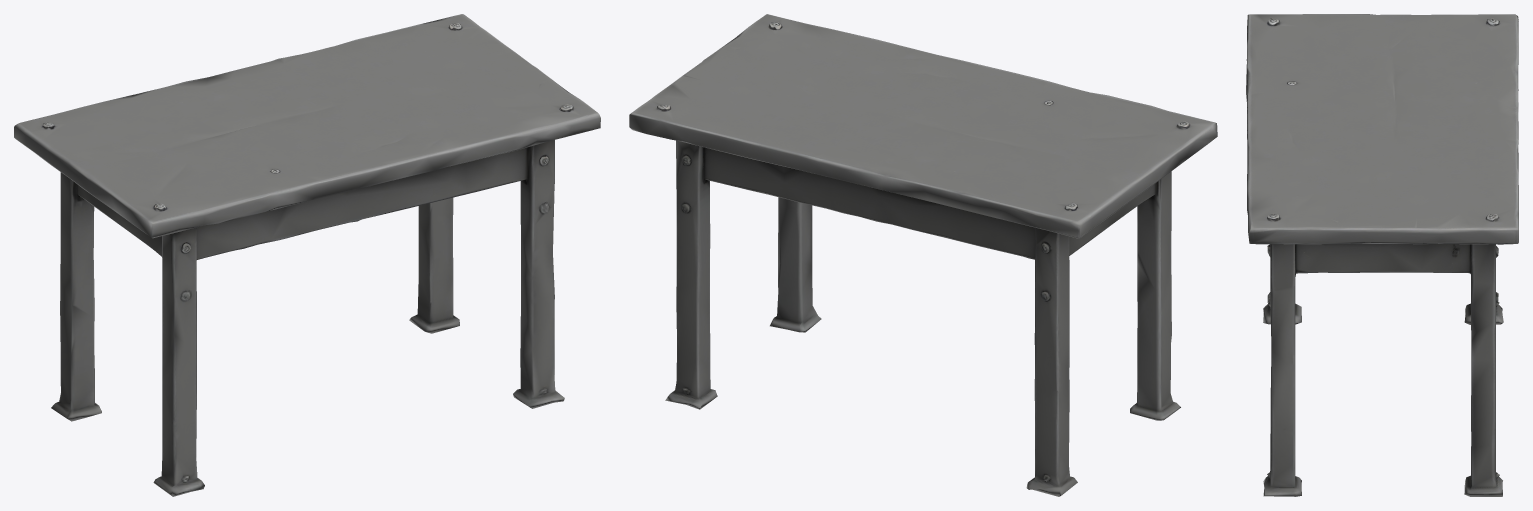
3 renders of one model, left to right at view 1: azimuth 30°, elevation 25°; view 2: azimuth 150°, elevation 25°; view 3: azimuth 270°, elevation 25°, orthographic.
Visible parts, largest first — view 1: tripo_node_5757e79d-50f4-449f-a1c3-87b14f78ea4a; view 2: tripo_node_5757e79d-50f4-449f-a1c3-87b14f78ea4a; view 3: tripo_node_5757e79d-50f4-449f-a1c3-87b14f78ea4a.
Part boxes in pixels (box(x1,y1,x2,y2)): tripo_node_5757e79d-50f4-449f-a1c3-87b14f78ea4a: box(14, 14, 600, 496); tripo_node_5757e79d-50f4-449f-a1c3-87b14f78ea4a: box(629, 14, 1217, 496); tripo_node_5757e79d-50f4-449f-a1c3-87b14f78ea4a: box(1246, 14, 1518, 496).
Size of the model in its own units: 1 by 0.6148 by 0.5341.
1 material, 1 textured.
